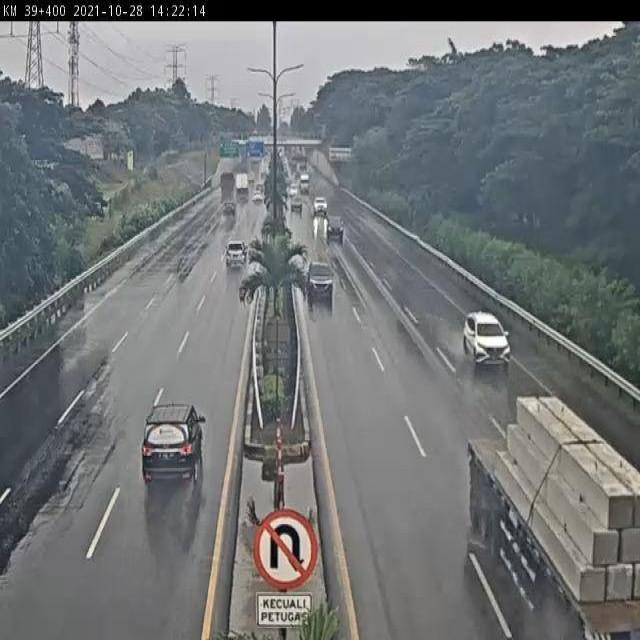car: (141, 401, 205, 487), (464, 308, 511, 369), (305, 257, 335, 300), (223, 238, 248, 274)
truck-xl-: (469, 394, 640, 640)
